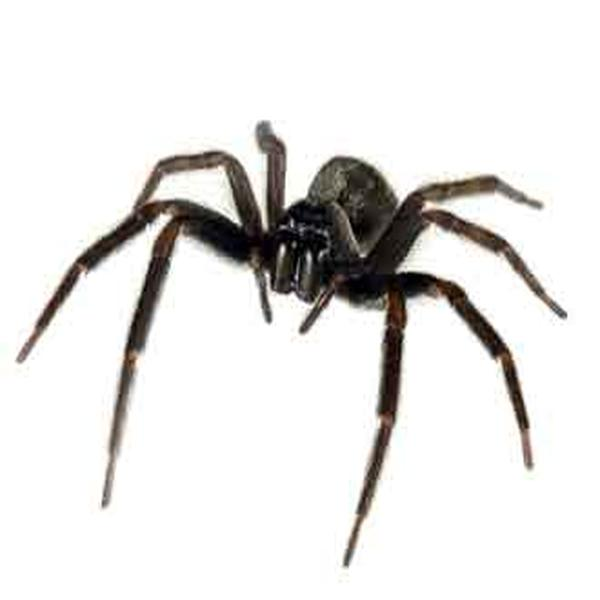White-Tailed Spider: (36, 122, 562, 543)
